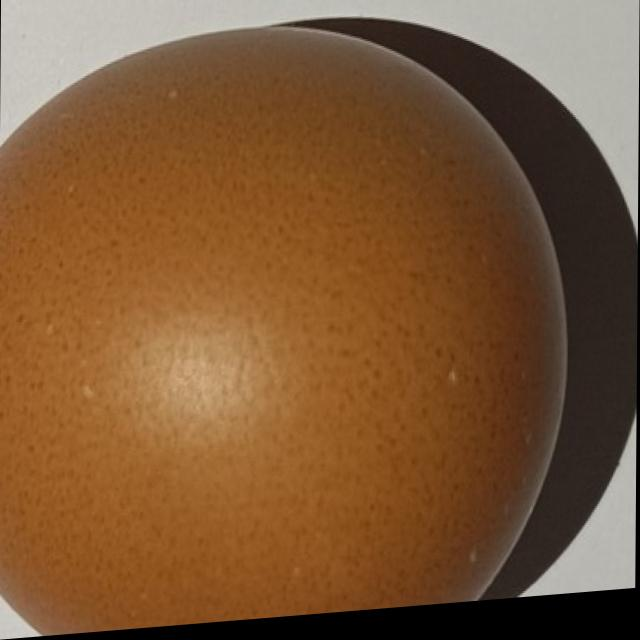unfresh: (0, 0, 570, 640)
